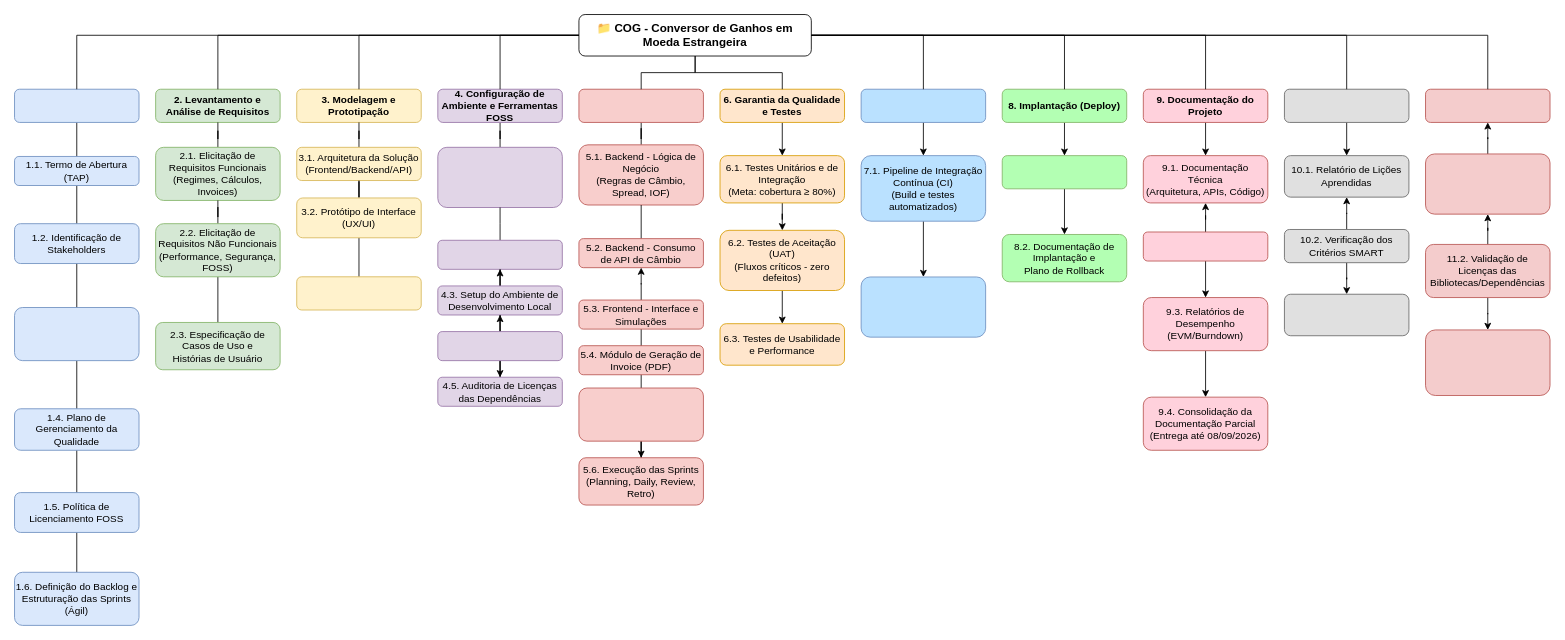
The diagram is 1565 pixels wide and 640 high, and some of its shapes have lost their labels. Here are the shapes that lost their labels. From the top down, the centre of each, then its label:
At (x=76, y=105): "1. Iniciação e Planejamento".
At (x=640, y=105): "5. Desenvolvimento do Sistema (com Sprints Ágeis)".
At (x=923, y=105): "7. DevOps e CI/CD".
At (x=1346, y=105): "10. Encerramento".
At (x=1487, y=105): "11. Governança e Conformidade (FOSS)".
At (x=499, y=177): "4.1. Seleção e Validação da Stack (Linguagens, Frameworks, Bancos)".
At (x=1064, y=172): "8.1. Publicação em Ambiente de Produção".
At (x=1487, y=183): "11.1. Validação de Licenças das Ferramentas de Desenvolvimento".
At (x=499, y=254): "4.2. Configuração do Repositório Git".
At (x=1205, y=246): "9.2. Manual do Usuário".
At (x=358, y=293): "3.3. Modelagem de Dados".
At (x=923, y=306): "7.2. Pipeline de Entrega Contínua (CD) (Deploy automático em homologação)".
At (x=76, y=334): "1.3. Planos de Gerenciamento (Escopo, Cronograma, Custo, Riscos)".
At (x=1346, y=314): "10.3. Apresentação Final e Aceite do Patrocinador".
At (x=499, y=346): "4.4. Setup do Ambiente de Homologação".
At (x=1487, y=362): "11.3. Definição e Registro da Licença do Produto Final (Ex: MIT/GPL)".
At (x=640, y=414): "5.5. Implementação Assistida por IA (SDD) (Geração e Revisão com LLM)".
